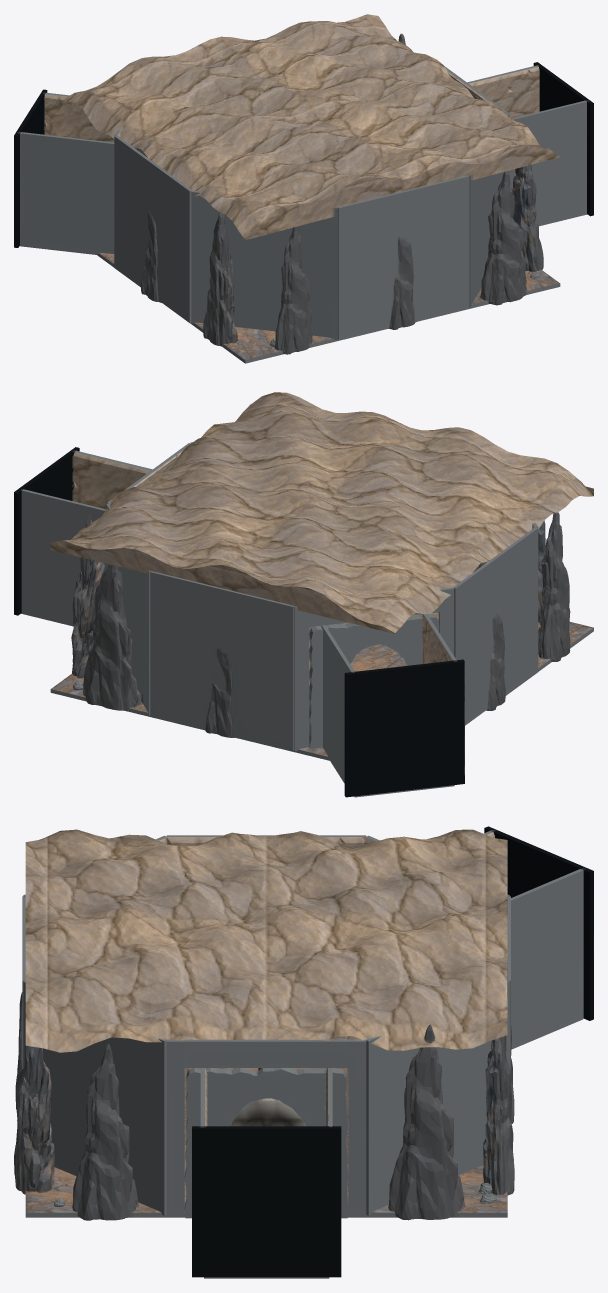
File: room.glb
3 renders of one model, top to bottom at view 1: azimuth 30°, elevation 25°; view 2: azimuth 150°, elevation 25°; view 3: azimuth 270°, elevation 25°, orthographic. The views are drawn at different scales.
Parts seen in each view (by area): view 1: RIDDLE-ROOM; view 2: RIDDLE-ROOM; view 3: RIDDLE-ROOM.
Part boxes in pixels (x1=…): RIDDLE-ROOM: x1=14, y1=14, x2=593, y2=363; RIDDLE-ROOM: x1=14, y1=392, x2=593, y2=797; RIDDLE-ROOM: x1=14, y1=826, x2=593, y2=1278.
Size of the model in its own units: 14.86 by 4.79 by 12.04.
Materials: 1 (1 with a texture image).
